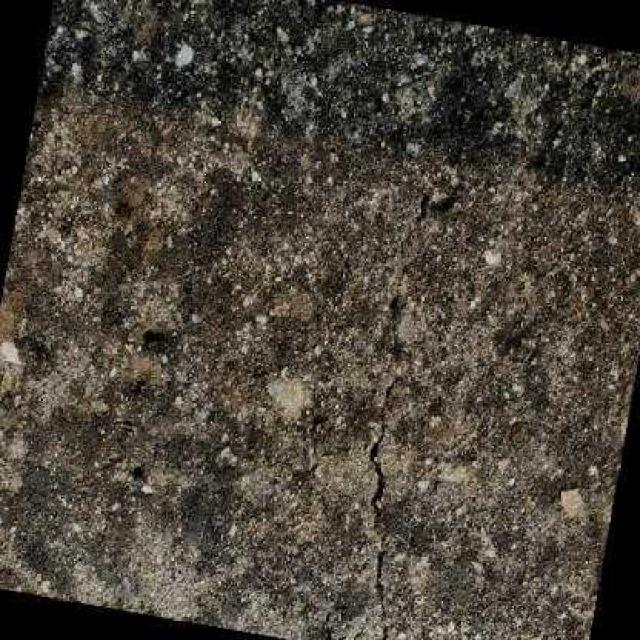D00: (365, 297, 396, 627)
